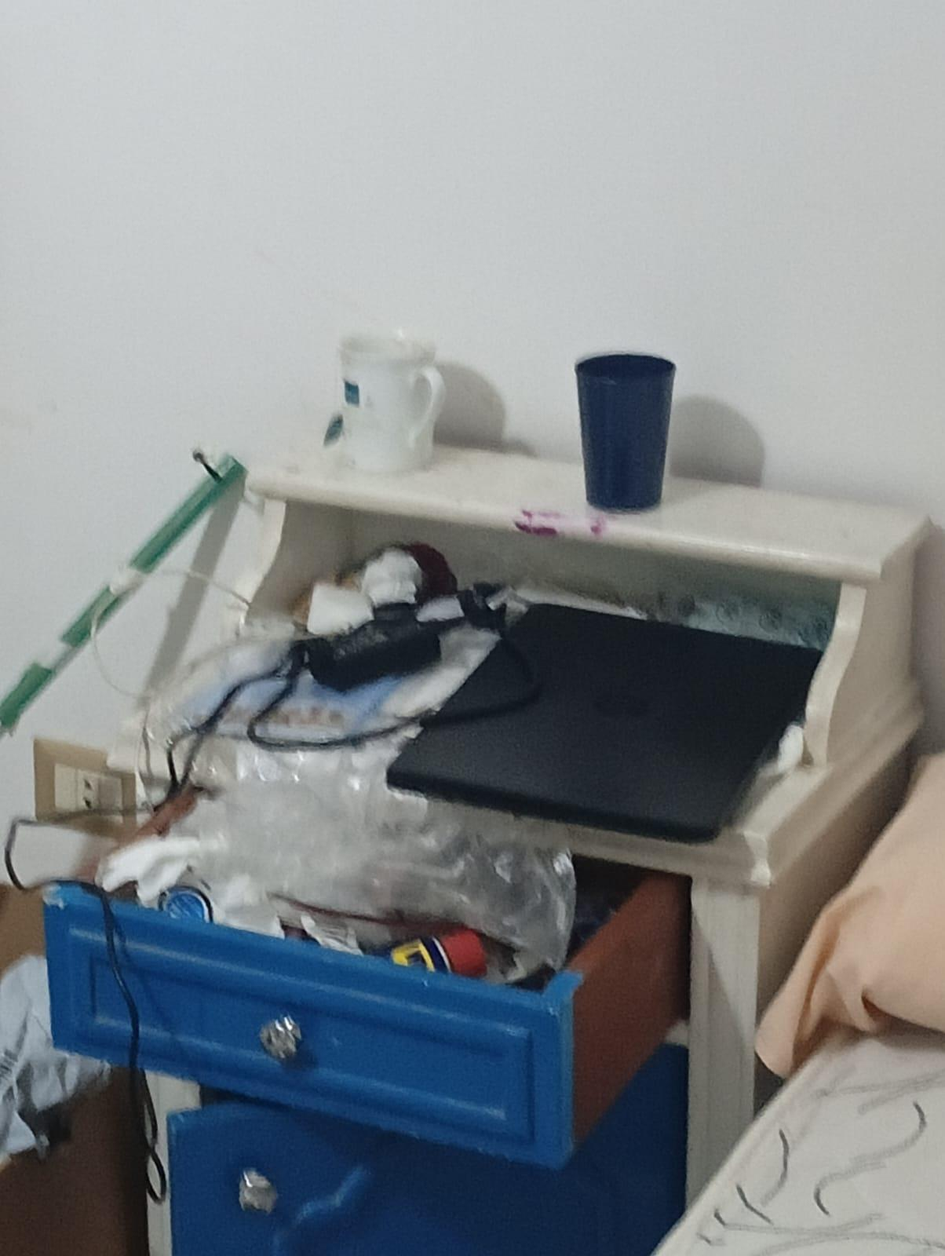cup: (575, 353, 674, 510), (340, 336, 444, 472)
